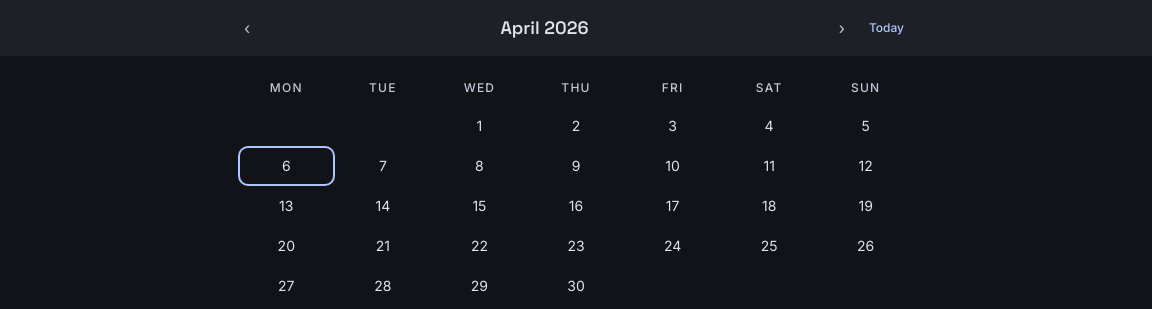
Scenario: RemindersView › switches to day detail when a day is clicked
Click the button with test id "day-cell-2026-04-10".
click(673, 166)  # box [626,148,719,184]
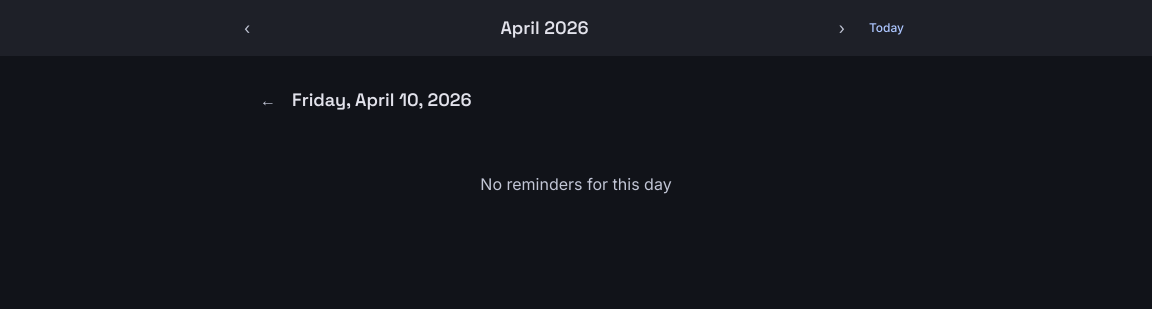
Expected: the element with test id "day-detail-header" is shown, [256,84,472,116]
